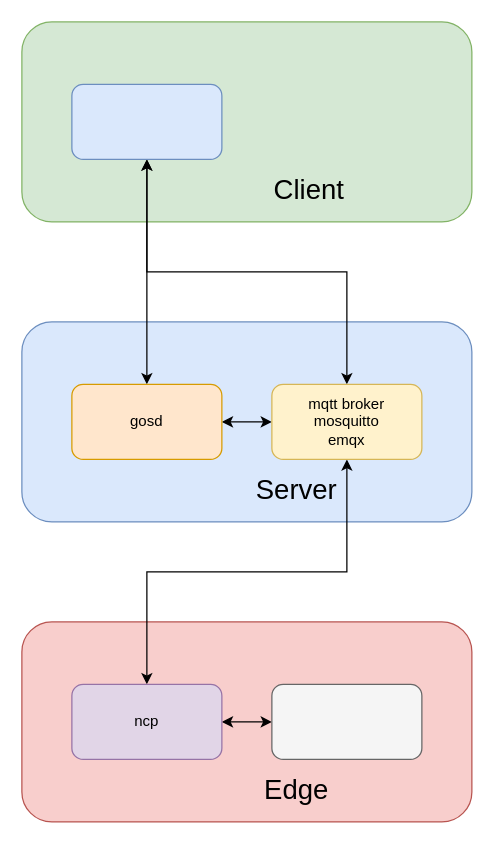
The diagram is 494 pixels wide and 853 high, and some of its shapes have lost their labels. The centre of each missing label's shape, as x and y in pixels:
APP: point 346,721
sdwc: point 146,121
